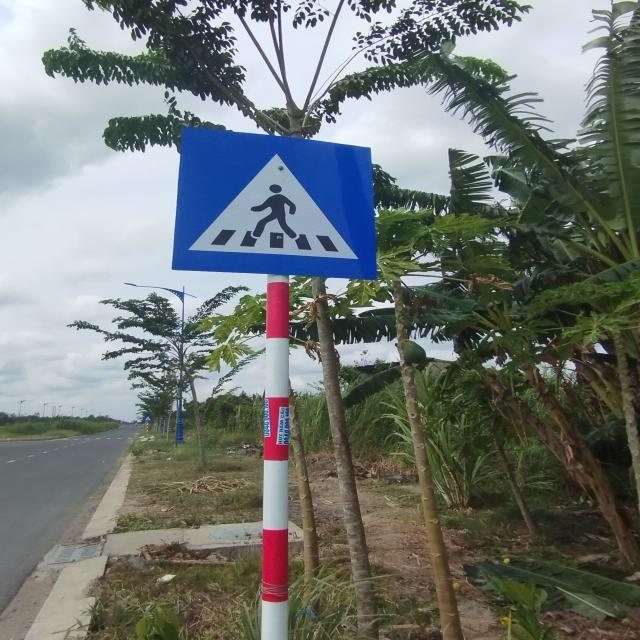Giao_Nhau_Duong_Uu_Tien: (173, 128, 379, 279)
